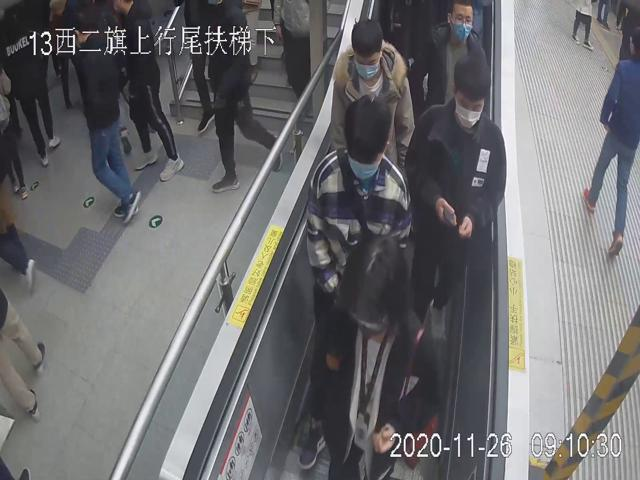person: (308, 232, 440, 480), (404, 52, 508, 320), (306, 94, 411, 329), (65, 10, 143, 227), (329, 13, 416, 169), (409, 0, 490, 113)
